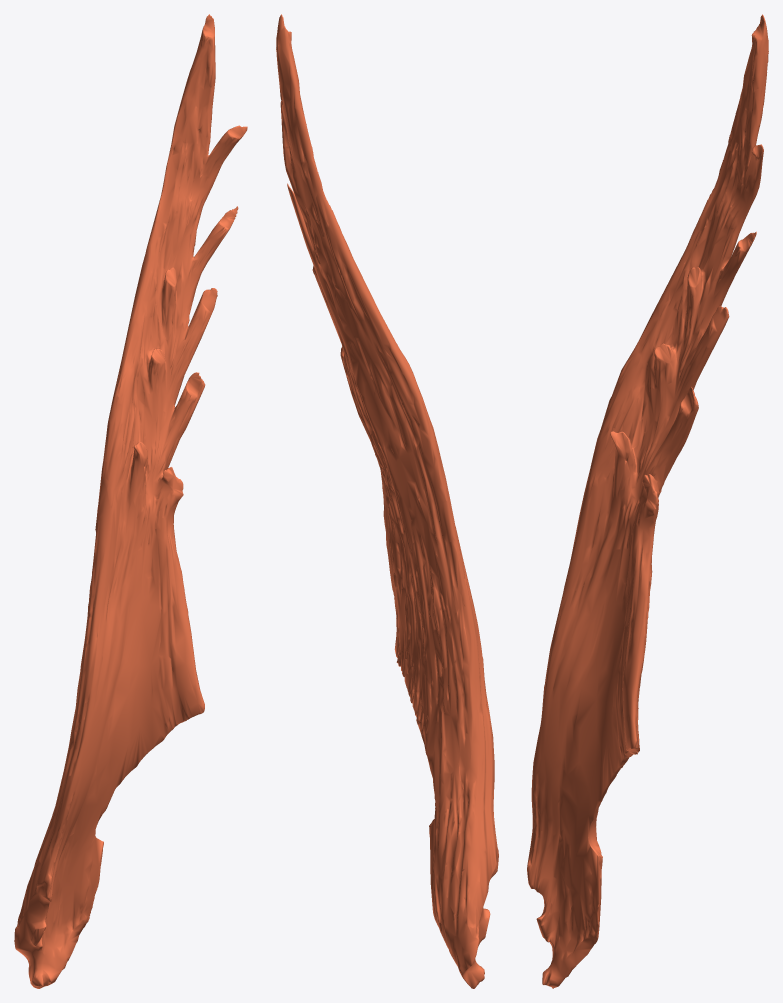
File: Iliocostalis_lumborum_left.glb
3 renders of one model, left to right at view 1: azimuth 30°, elevation 25°; view 2: azimuth 150°, elevation 25°; view 3: azimuth 330°, elevation 25°, orthographic. The views are drawn at different scales.
Parts seen in each view (by area): view 1: Iliocostalis_lumborum_muscle.l_Generated_Mesh_From_X3D.472; view 2: Iliocostalis_lumborum_muscle.l_Generated_Mesh_From_X3D.472; view 3: Iliocostalis_lumborum_muscle.l_Generated_Mesh_From_X3D.472.
Boxes of the visible parts, box(x1,y1,x2,y2) form: Iliocostalis_lumborum_muscle.l_Generated_Mesh_From_X3D.472: box(14, 14, 247, 988); Iliocostalis_lumborum_muscle.l_Generated_Mesh_From_X3D.472: box(276, 14, 498, 988); Iliocostalis_lumborum_muscle.l_Generated_Mesh_From_X3D.472: box(527, 14, 768, 988).
Bounding box in the file's own units: 0.0946 × 0.3903 × 0.0475.
